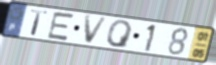1: (144, 23, 158, 53)
8: (167, 27, 191, 56)
E: (45, 11, 78, 43)
Q: (105, 19, 134, 50)
T: (29, 9, 50, 37)
V: (83, 15, 110, 46)
